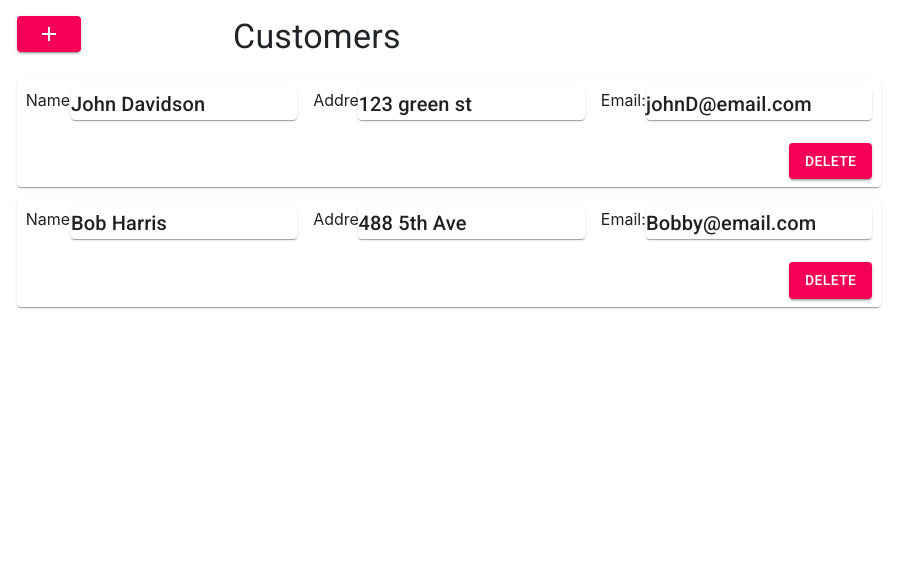
Test: Customers › Goes to form when a customer in the list is clicked on.
The image size is (899, 584).
Click the text "johnD@email.com": x=759, y=104 [646, 88, 872, 120]
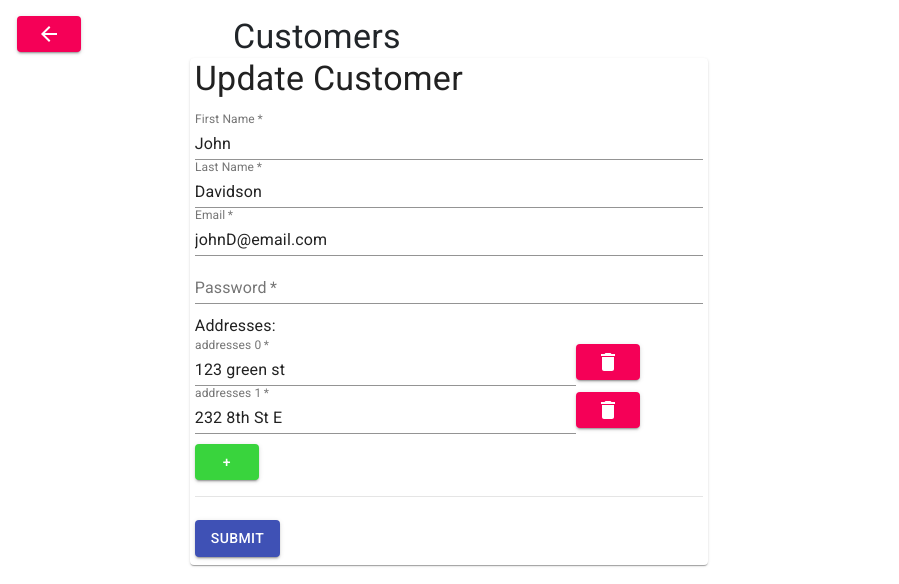
Expected: the text "Submit" is shown, [211, 526, 264, 551]
